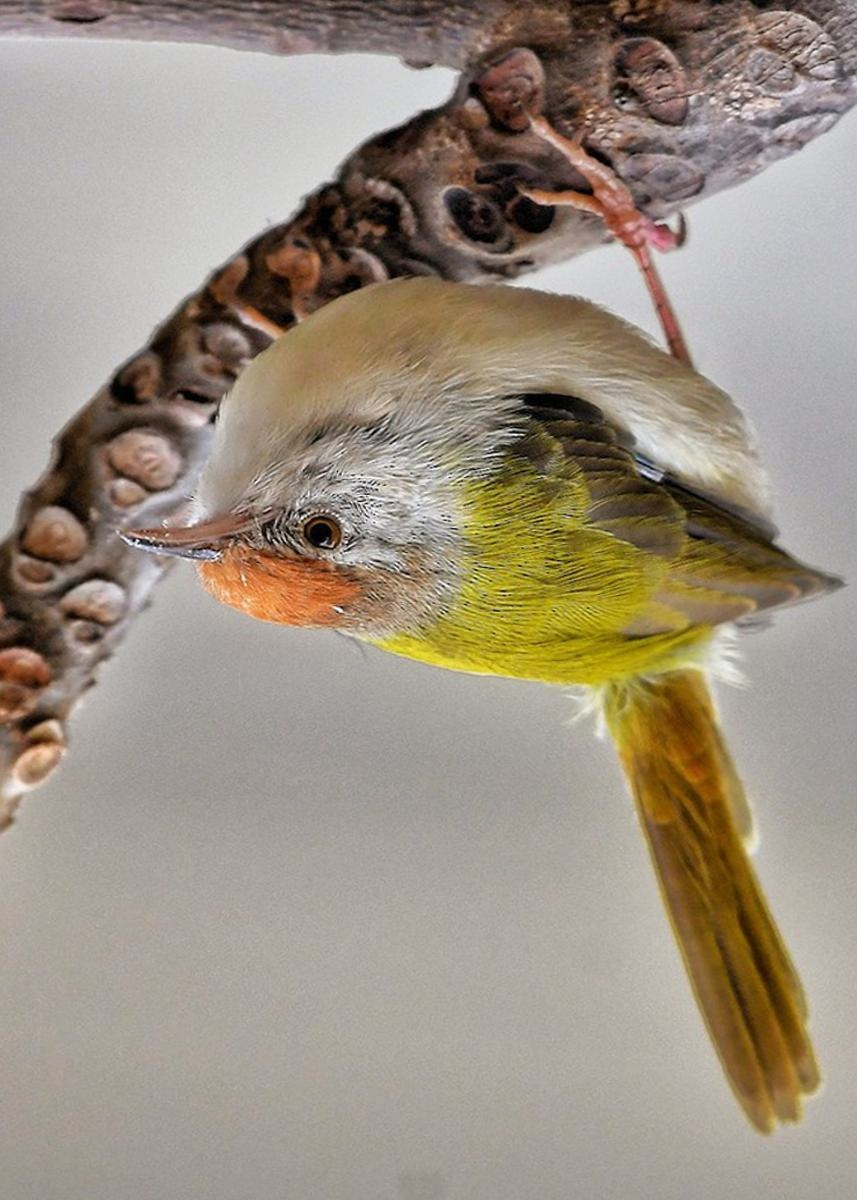tailorbird: (94, 224, 857, 711)
